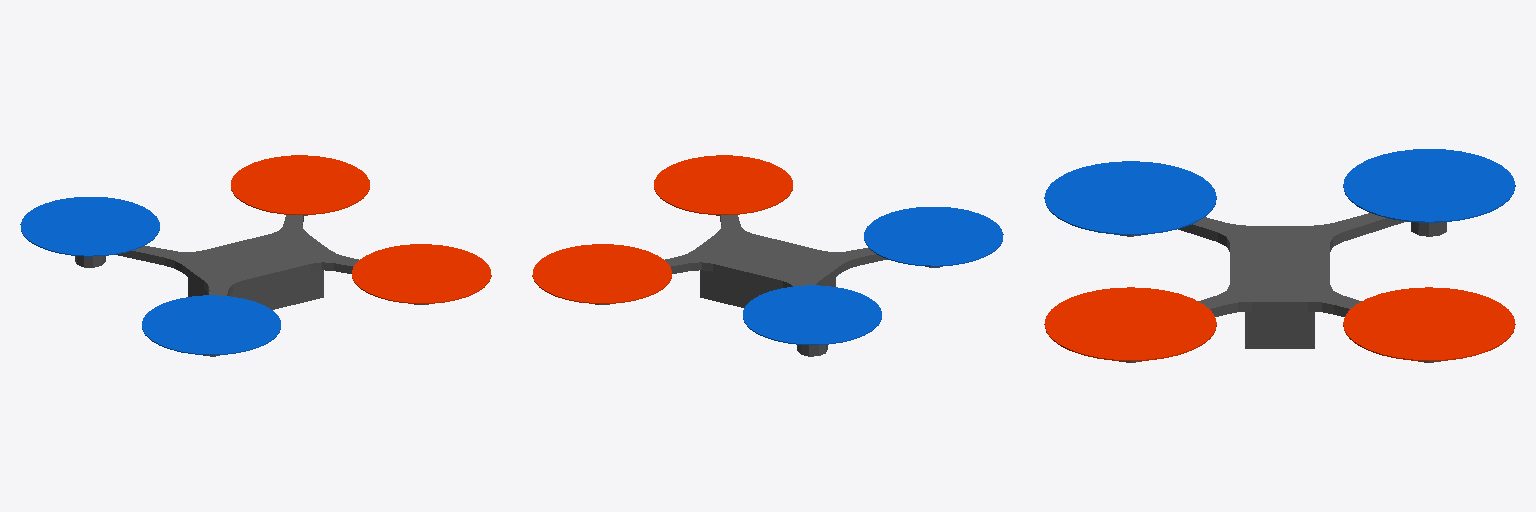
URDF robot description (RoboBee):
<?xml version="1.0" ?>

<robot name="RoboBee">

  <material name="white">
    <color rgba="1. 1. 1. 1.0"/>
  </material>

  <material name="black">
    <color rgba="0. 0. 0. 1.0"/>
  </material>

  <material name="blue0">
    <color rgba="15./255. 141./255. 238./255. 1.0"/>
  </material>

  <material name="darkgrey">
    <color rgba="0.4 0.4 0.4 1.0"/>
  </material>

  <material name="blue1">
    <color rgba="0.06 0.46 0.9 0.6"/>
  </material>

  <material name="orange_red">
    <color rgba="1 0.25 0 0.4"/>
  </material>

  <configuration type="quad"/>

  <properties arm="0.0635" kf="2.0e-8" km="2.74e-10" thrust2weight="2" max_speed_kmh="30" gnd_eff_coeff="11.36859" prop_radius="3.31348e-2" drag_coeff_xy="9.1785e-7" drag_coeff_z="10.311e-7" dw_coeff_1="2267.18" dw_coeff_2=".16" dw_coeff_3="-.11"/>

  <control>
    <indi actuator_nr="4" output_nr="4" />
    <indi_1 roll="  50.0  50.0 -50.0  -50.0" />
    <indi_2 pitch="-50.0  50.0  50.0  -50.0" />
    <indi_3 yaw="   -7.0   7.0  -7.0    7.0" />
    <indi_4 thrust=" 1.7   1.7   1.7    1.7" />

    <indi_guidance_gains>
      <pos kp="1.0" kd="2.2"/>
    </indi_guidance_gains>
    
    <indi_att_gains>
      <att  p="7." q="7." r="5." />
      <rate p="18." q="18." r="10." />
    </indi_att_gains>

    <pwm>
      <pwm2rpm scale="20000. 20000. 20000. 20000." const="0. 0. 0. 0." />
      <limit min="0  0  0  0" max="1  1  1  1" />
    </pwm>
  </control>


  <link name="base_link"> 

    <inertial>
      <origin rpy="0 0 0" xyz="0 0 0"/>
      <mass value="1"/>
      <inertia ixx="6.2e-4" ixy="0.0" ixz="0.0" iyy="6.2e-4" iyz="0.0" izz="1.1e-3"/>
    </inertial>

    <visual>
      <origin rpy="1.5708 0 0" xyz="0 0 0"/>
      <geometry>
        <mesh filename="./robobee.obj" scale="1. 1. 1."/>
      </geometry> 
      <material name="darkgrey"/>
    </visual>

    <collision>
      <origin rpy="0 0 0" xyz="0 0 0"/>
      <geometry>
        <cylinder radius="0.15" length=".1"/>
      </geometry>
    </collision>  

  </link>

  <link name="prop0_link">
    <inertial>
      <origin rpy="0 0 0" xyz="0.11 0.11 0"/>
      <mass value="0"/>
      <inertia ixx="0" ixy="0" ixz="0" iyy="0" iyz="0" izz="0"/>
    </inertial>
    <visual>
      <origin rpy="0 0 0" xyz="0.11 0.11 0.01"/>
      <geometry>
        <cylinder radius="0.0635" length=".001"/>
      </geometry>
      <material name="orange_red"/>
    </visual> 
  </link>
  <joint name="prop0_joint" type="fixed">
    <parent link="base_link"/>
    <child link="prop0_link"/>
  </joint>

  <link name="prop1_link">
    <inertial>
      <origin rpy="0 0 0" xyz="-0.11 0.11 0"/>
      <mass value="0"/>
      <inertia ixx="0" ixy="0" ixz="0" iyy="0" iyz="0" izz="0"/>
    </inertial>
    <visual>
      <origin rpy="0 0 0" xyz="-0.11 0.11 0.02"/>
      <geometry>
        <cylinder radius="0.0635" length=".001"/>
      </geometry>
      <material name="blue1"/>
    </visual> 
  </link>
  <joint name="prop1_joint" type="fixed">
    <parent link="base_link"/>
    <child link="prop1_link"/>
  </joint>

  <link name="prop2_link">
    <inertial>
      <origin rpy="0 0 0" xyz="-0.11 -0.11 0.03"/>
      <mass value="0"/>
      <inertia ixx="0" ixy="0" ixz="0" iyy="0" iyz="0" izz="0"/>
    </inertial>
    <visual>
      <origin rpy="0 0 0" xyz="-0.11 -0.11 0.01"/>
      <geometry>
        <cylinder radius="0.0635" length=".001"/>
      </geometry>
      <material name="blue1"/>
    </visual> 
  </link>
  <joint name="prop2_joint" type="fixed">
    <parent link="base_link"/>
    <child link="prop2_link"/>
  </joint>

  <link name="prop3_link">
    <inertial>
      <origin rpy="0 0 0" xyz="0.11 -0.11 0.04"/>
      <mass value="0"/>
      <inertia ixx="0" ixy="0" ixz="0" iyy="0" iyz="0" izz="0"/>
    </inertial>
    <visual>
      <origin rpy="0 0 0" xyz="0.11 -0.11 0.01"/>
      <geometry>
        <cylinder radius="0.0635" length=".001"/>
      </geometry>
      <material name="orange_red"/>
    </visual> 
  </link>
  <joint name="prop3_joint" type="fixed">
    <parent link="base_link"/>
    <child link="prop3_link"/>
  </joint>

  <link name="center_of_mass_link">
    <inertial>
      <origin rpy="0 0 0" xyz="0 0 0"/>
      <mass value="0"/>
      <inertia ixx="0" ixy="0" ixz="0" iyy="0" iyz="0" izz="0"/>
    </inertial>
  </link>
  <joint name="center_of_mass_joint" type="fixed">
    <parent link="base_link"/>
    <child link="center_of_mass_link"/>
  </joint>

</robot>

--- Facts derived from the render (not from the file) ---
The picture shows the robot from 3 angles, left to right: view 1: azimuth 30°, elevation 25°; view 2: azimuth 150°, elevation 25°; view 3: azimuth 270°, elevation 25°; orthographic projection.
Model RoboBee with 6 links and 5 joints (5 fixed), rooted at base_link, posed all joints at 0.
Links seen in each view (by area): view 1: base_link, prop2_link, prop3_link, prop0_link, prop1_link; view 2: base_link, prop0_link, prop1_link, prop3_link, prop2_link; view 3: base_link, prop1_link, prop2_link, prop0_link, prop3_link.
Link boxes in pixels (box(x1,y1,x2,y2)): base_link: box(75, 215, 428, 356); prop2_link: box(142, 295, 280, 354); prop3_link: box(352, 244, 491, 303); prop0_link: box(231, 155, 369, 214); prop1_link: box(20, 197, 159, 256); base_link: box(595, 215, 942, 356); prop0_link: box(532, 244, 671, 303); prop1_link: box(743, 285, 881, 344); prop3_link: box(654, 155, 792, 214); prop2_link: box(864, 207, 1003, 266); base_link: box(1119, 213, 1446, 362); prop1_link: box(1343, 149, 1515, 222); prop2_link: box(1044, 161, 1216, 234); prop0_link: box(1343, 287, 1515, 360); prop3_link: box(1044, 287, 1216, 360).
Size in the robot's own frame: 0.347 by 0.347 by 0.0555 metres.
1 mesh visuals loaded from 1 distinct referenced files (1 OBJ).